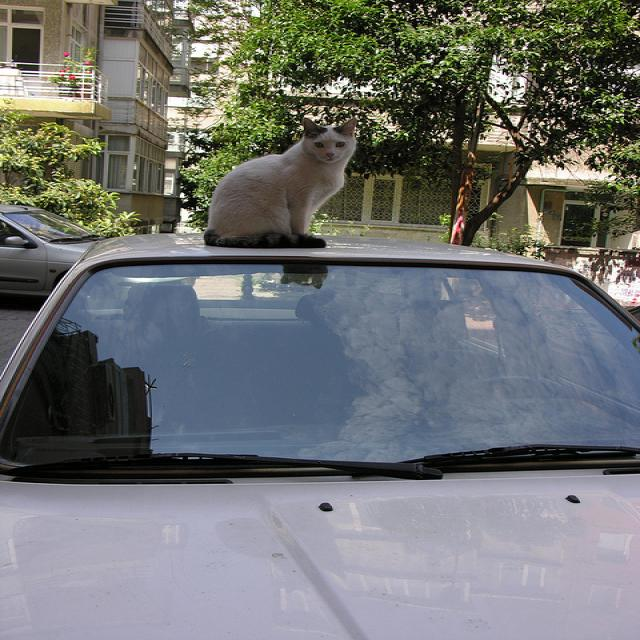Vehicle: (0, 231, 639, 633), (2, 204, 118, 296)
